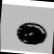correct: (13, 19, 51, 48)
